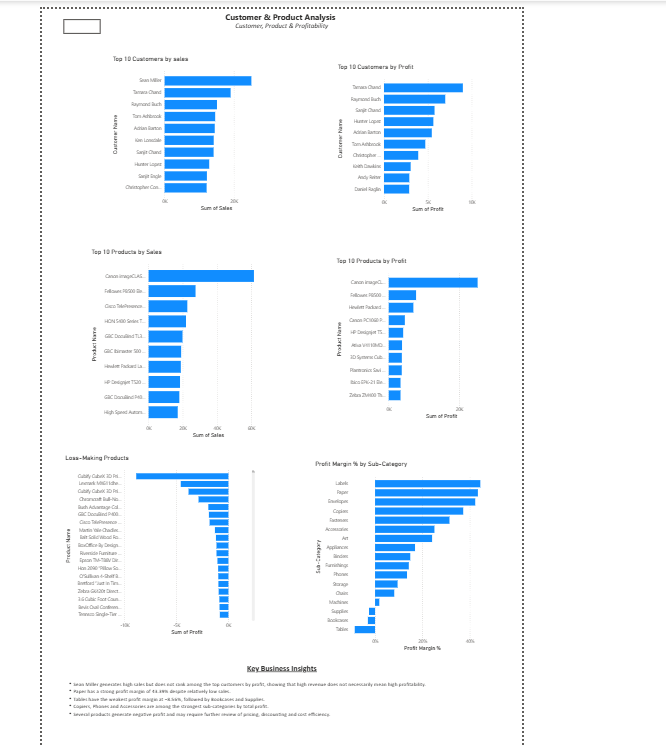

The dashboard page shown, as its layout file describes it:
{"tool":"powerbi","page":{"name":"Customer & Product Analysis","canvas":[1280,2000],"ordinal":1},"visuals":[{"type":"clusteredBarChart","title":"Top 10 Customers by sales","fields":{"Category":["Sample - Superstore.Customer Name"],"Y":["Sum(Sample - Superstore.Sales)"]},"box":[182,124,436,422],"z":0},{"type":"clusteredBarChart","title":"Top 10 Customers by Profit","fields":{"Category":["Sample - Superstore.Customer Name"],"Y":["Sum(Sample - Superstore.Profit)"]},"box":[782,142,378,404],"z":1000},{"type":"clusteredBarChart","title":"Top 10 Products by Sales","fields":{"Category":["Sample - Superstore.Product Name"],"Y":["Sum(Sample - Superstore.Sales)"]},"box":[126,638,492,514],"z":2000},{"type":"clusteredBarChart","title":"Top 10 Products by Profit","fields":{"Category":["Sample - Superstore.Product Name"],"Y":["Sum(Sample - Superstore.Profit)"]},"box":[780,660,442,440],"z":3000},{"type":"barChart","title":"Loss-Making Products","fields":{"Category":["Sample - Superstore.Product Name"],"Y":["Sum(Sample - Superstore.Profit)"]},"box":[56,1186,516,488],"z":4000},{"type":"clusteredBarChart","fields":{"Category":["Sample - Superstore.Sub-Category"],"Y":["Sample - Superstore.Profit Margin %"]},"box":[724,1204,498,514],"z":5000},{"type":"textbox","box":[24,0,1224,68],"z":6000},{"type":"textbox","box":[56,1740,1166,924],"z":7000},{"type":"actionButton","box":[55,27.5,100,40],"z":8000}]}

Visuals, with their boxes on the page's 1280x2000 design canvas (x1, y1, x2, y2). These are canvas units, not pixel positions in the 666x746 screenshot, which may show the page scaled, cropped or inside an application window:
"Top 10 Customers by sales" clusteredBarChart: <region>182, 124, 618, 546</region>
"Top 10 Customers by Profit" clusteredBarChart: <region>782, 142, 1160, 546</region>
"Top 10 Products by Sales" clusteredBarChart: <region>126, 638, 618, 1152</region>
"Top 10 Products by Profit" clusteredBarChart: <region>780, 660, 1222, 1100</region>
"Loss-Making Products" barChart: <region>56, 1186, 572, 1674</region>
clusteredBarChart - Sample - Superstore.Sub-Category x Sample - Superstore.Profit Margin %: <region>724, 1204, 1222, 1718</region>
textbox: <region>24, 0, 1248, 68</region>
textbox: <region>56, 1740, 1222, 2664</region>
actionButton: <region>55, 28, 155, 68</region>
